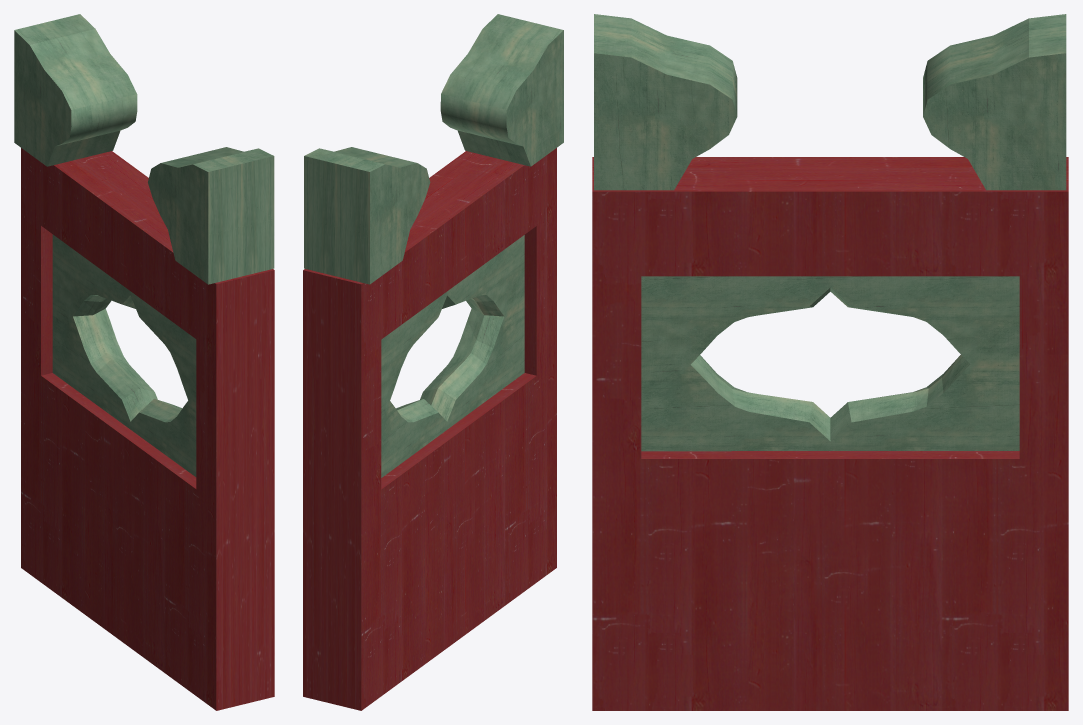
File: SM_M_Handrail_5.fbx
3 renders of one model, left to right at view 1: azimuth 30°, elevation 25°; view 2: azimuth 150°, elevation 25°; view 3: azimuth 270°, elevation 25°, orthographic. The views are drawn at different scales.
Visible parts, largest first — view 1: SM_M_Handrail_5_LOD0; view 2: SM_M_Handrail_5_LOD0; view 3: SM_M_Handrail_5_LOD0.
Boxes of the visible parts, x1=… form: SM_M_Handrail_5_LOD0: x1=14, y1=14, x2=274, y2=710; SM_M_Handrail_5_LOD0: x1=303, y1=14, x2=563, y2=710; SM_M_Handrail_5_LOD0: x1=592, y1=14, x2=1068, y2=710.
Size of the model in its own units: 9.11 by 45.68 by 69.64.
Materials: 2 (2 with a texture image).
